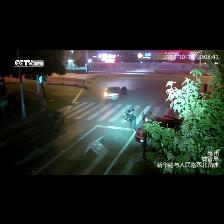person: (124, 110, 136, 133)
